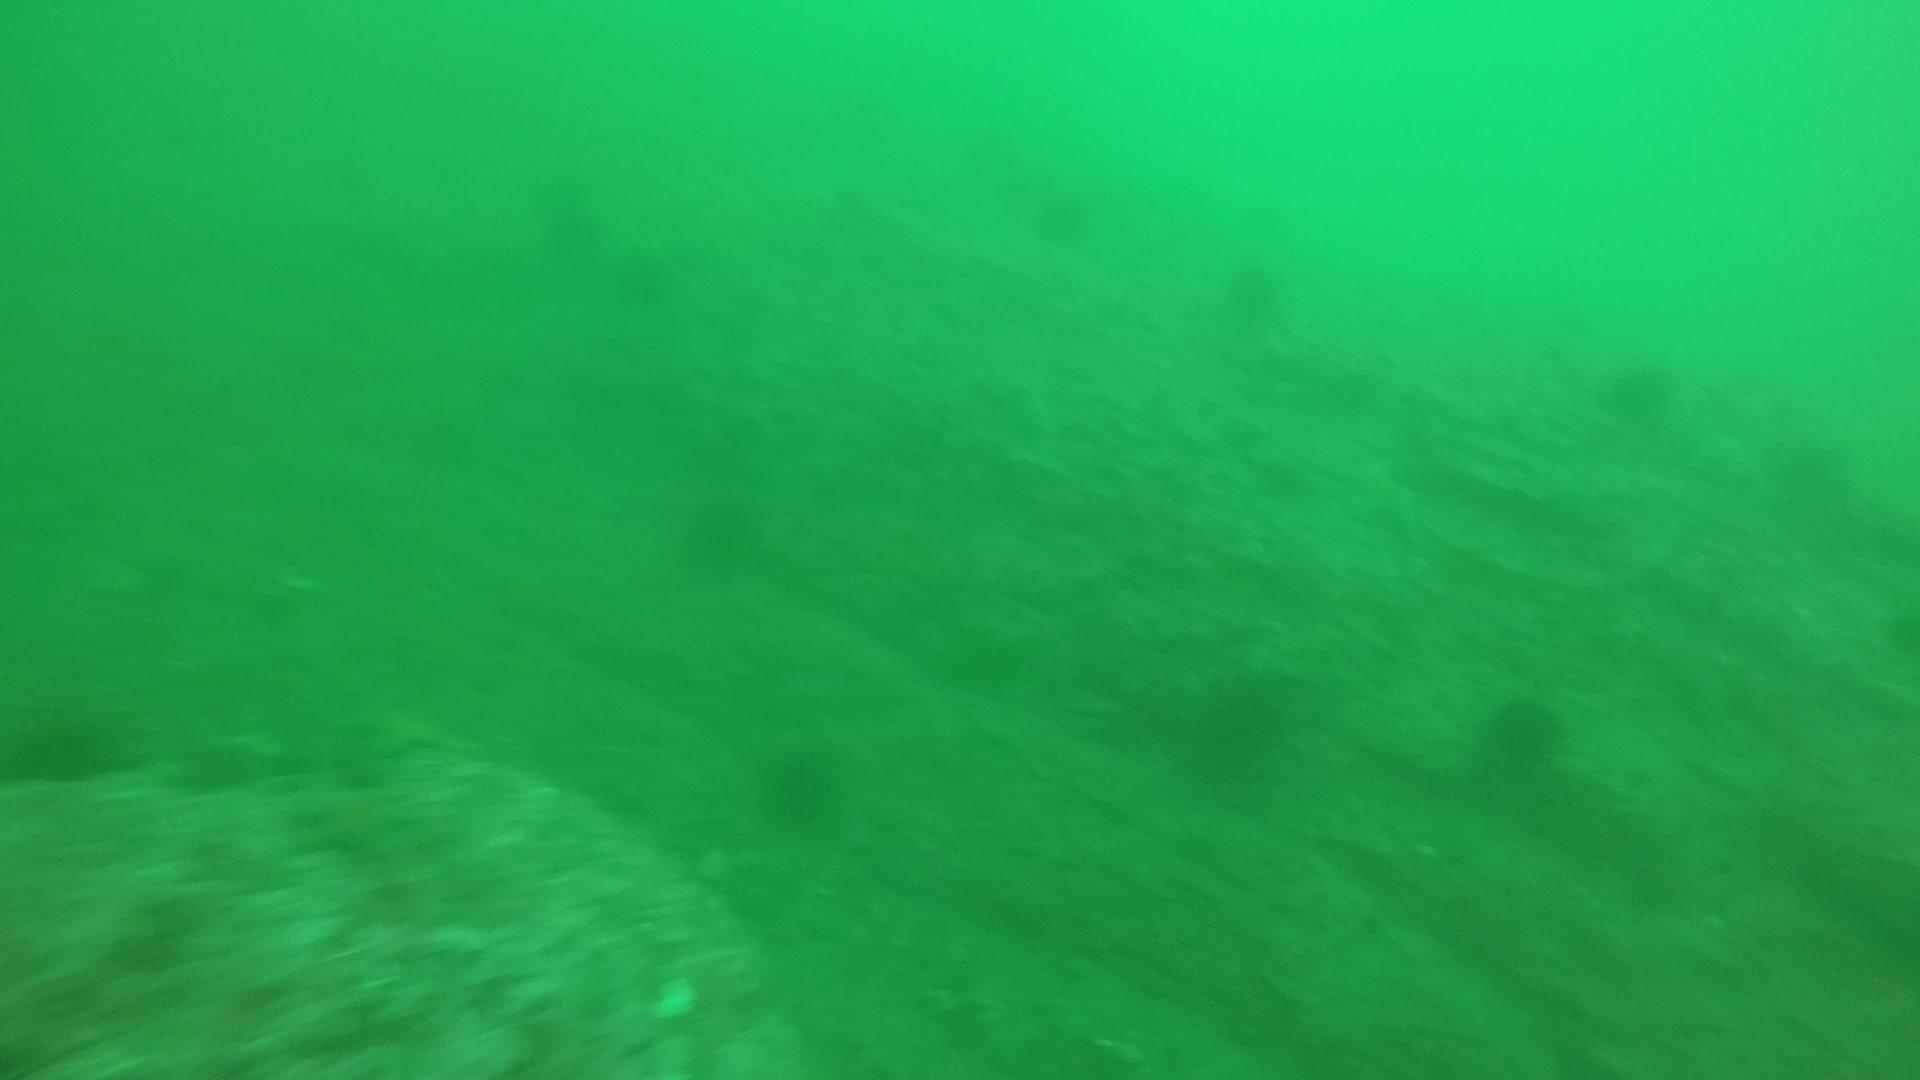echinus: (1184, 669, 1291, 781), (4, 699, 128, 793), (752, 733, 852, 833), (1474, 687, 1571, 777), (673, 487, 767, 575), (1598, 349, 1681, 423), (1023, 171, 1102, 248), (1216, 253, 1288, 326)
starfish: (291, 781, 418, 862)
